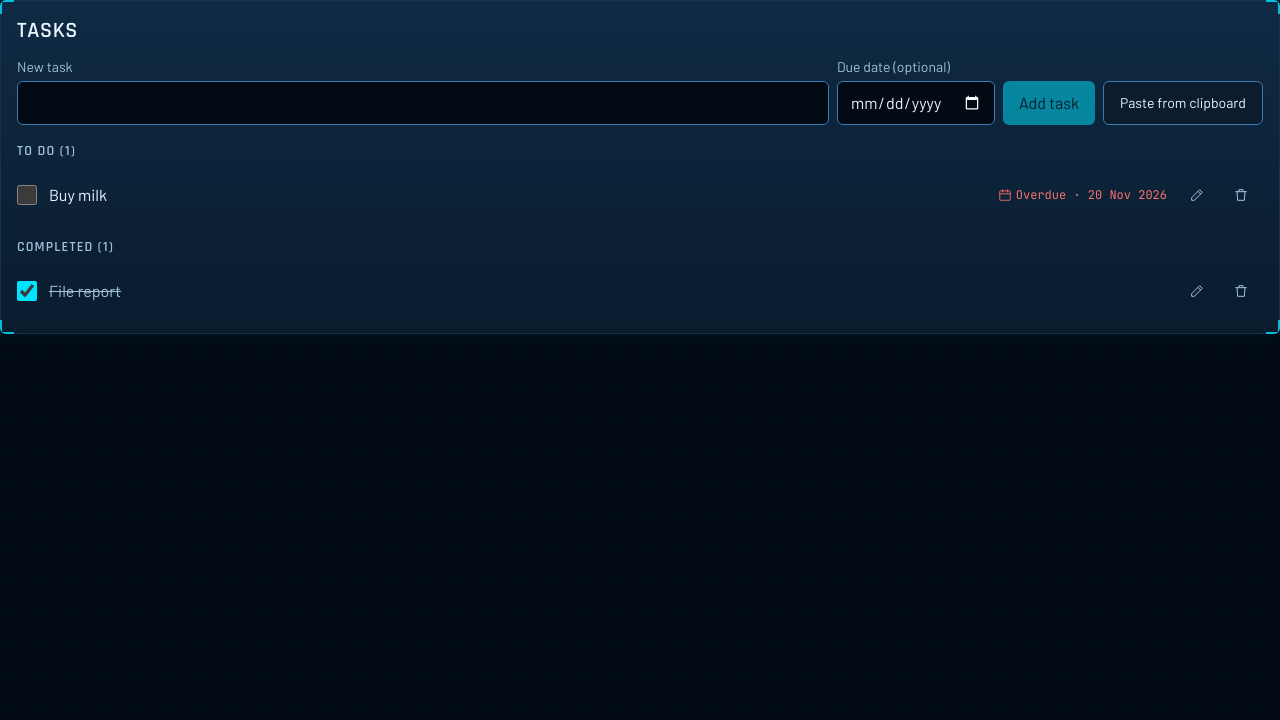
Test: task board (M2-8a) › edits a task only after the server confirms it
Click the button named "Edit Buy milk": click(1197, 195) x1=1175 y1=173 x2=1219 y2=217
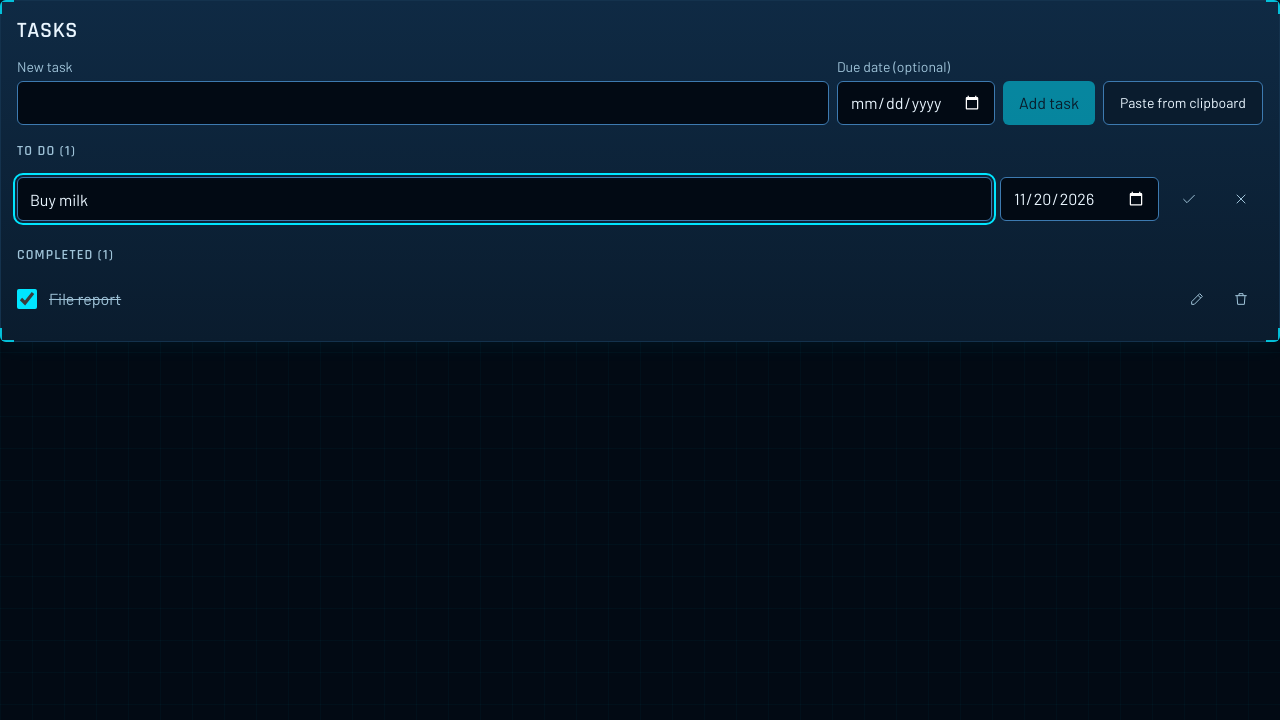
Replace the text in the field named "Task title" with "Buy oat milk": (504, 199) x1=17 y1=177 x2=992 y2=221
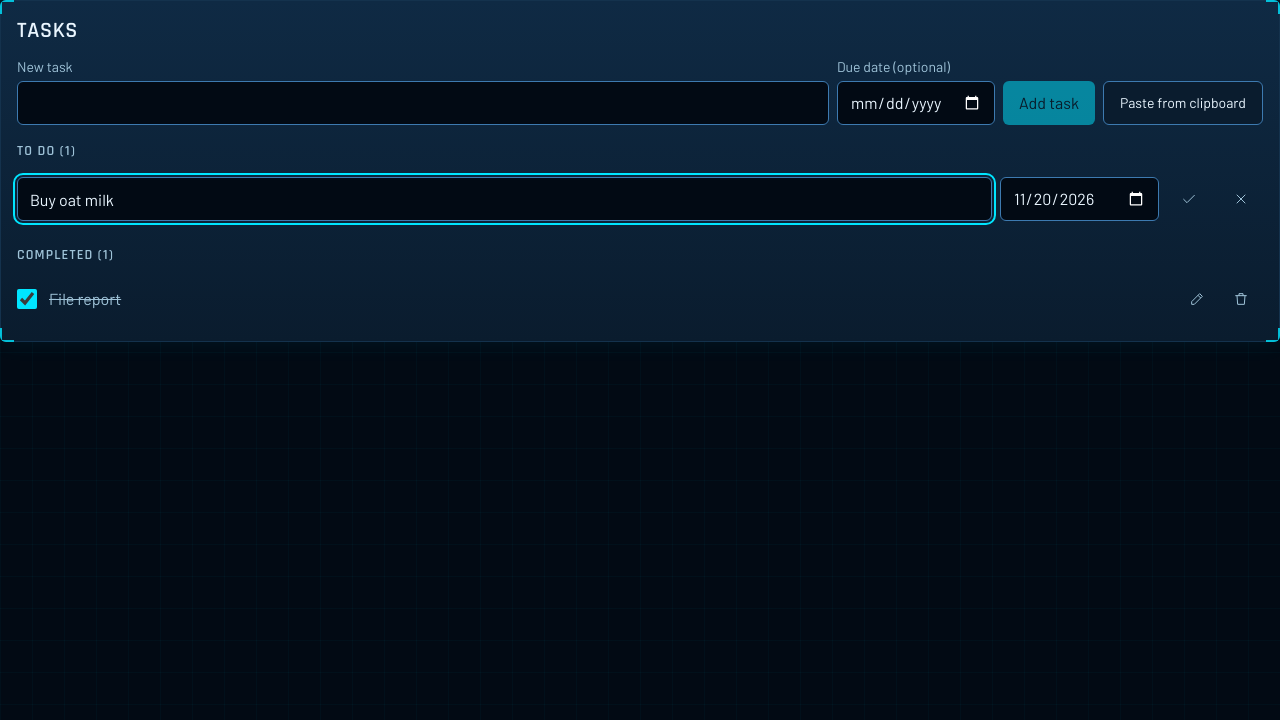
Click the button named "Save task": click(1189, 199) x1=1167 y1=177 x2=1211 y2=221
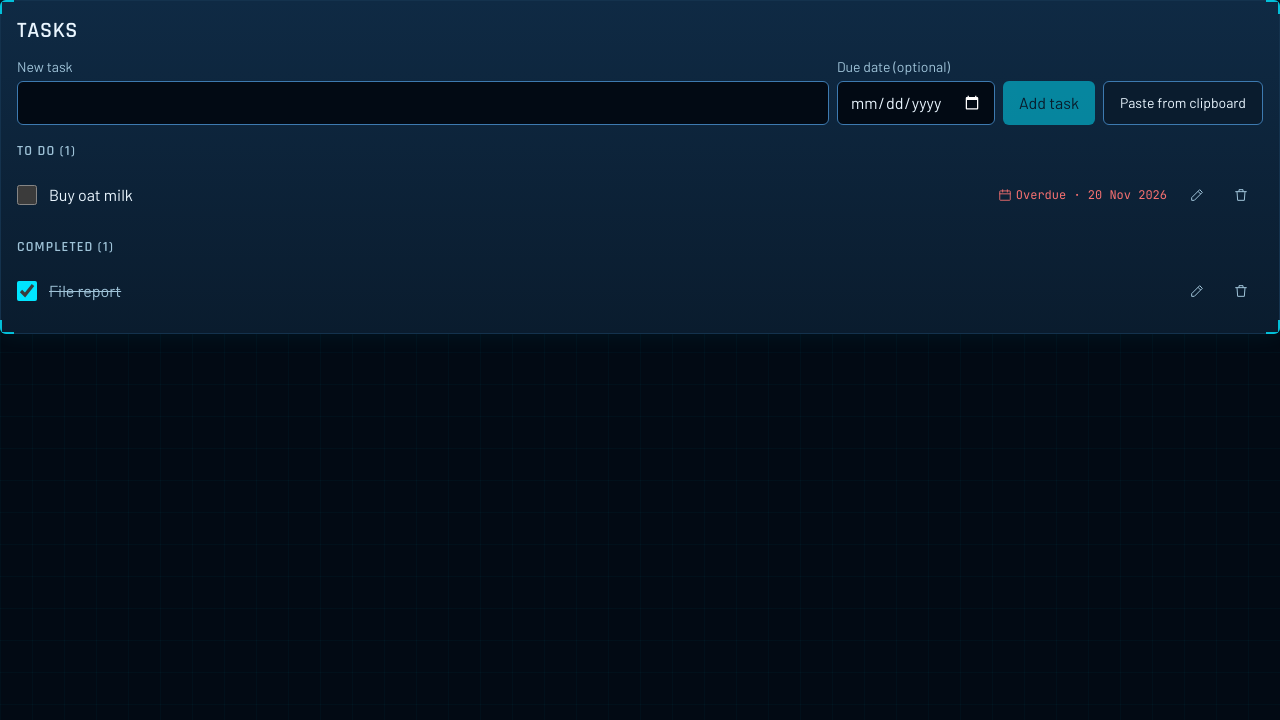
Expected: the text "Buy oat milk" is shown, x1=49 y1=183 x2=133 y2=207
